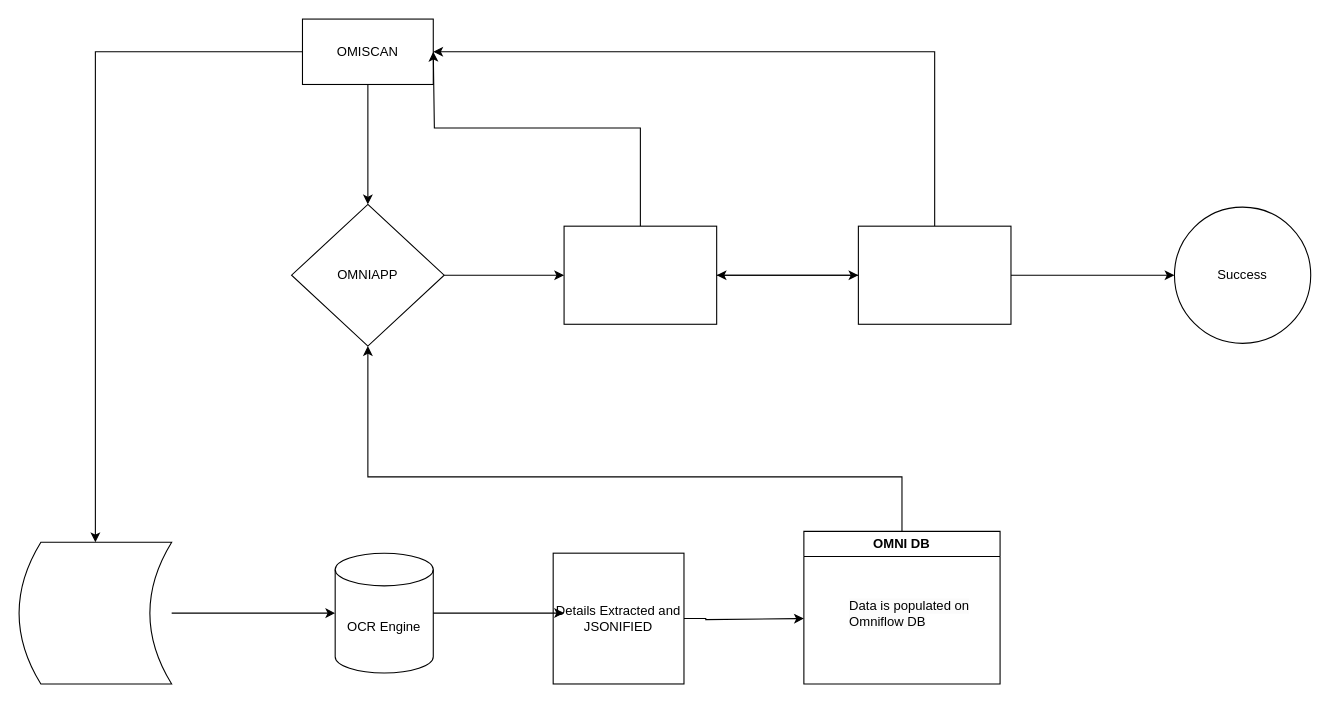
This 1330x703 diagram has some shape labels left out. The shapes that lost their labels are listed below. From the top down, each one's centre as x and y in pixels, then its label:
At point (640, 274): "Maker".
At point (934, 274): "Checker".
At point (95, 612): "Staging area for Work Items Packages".
